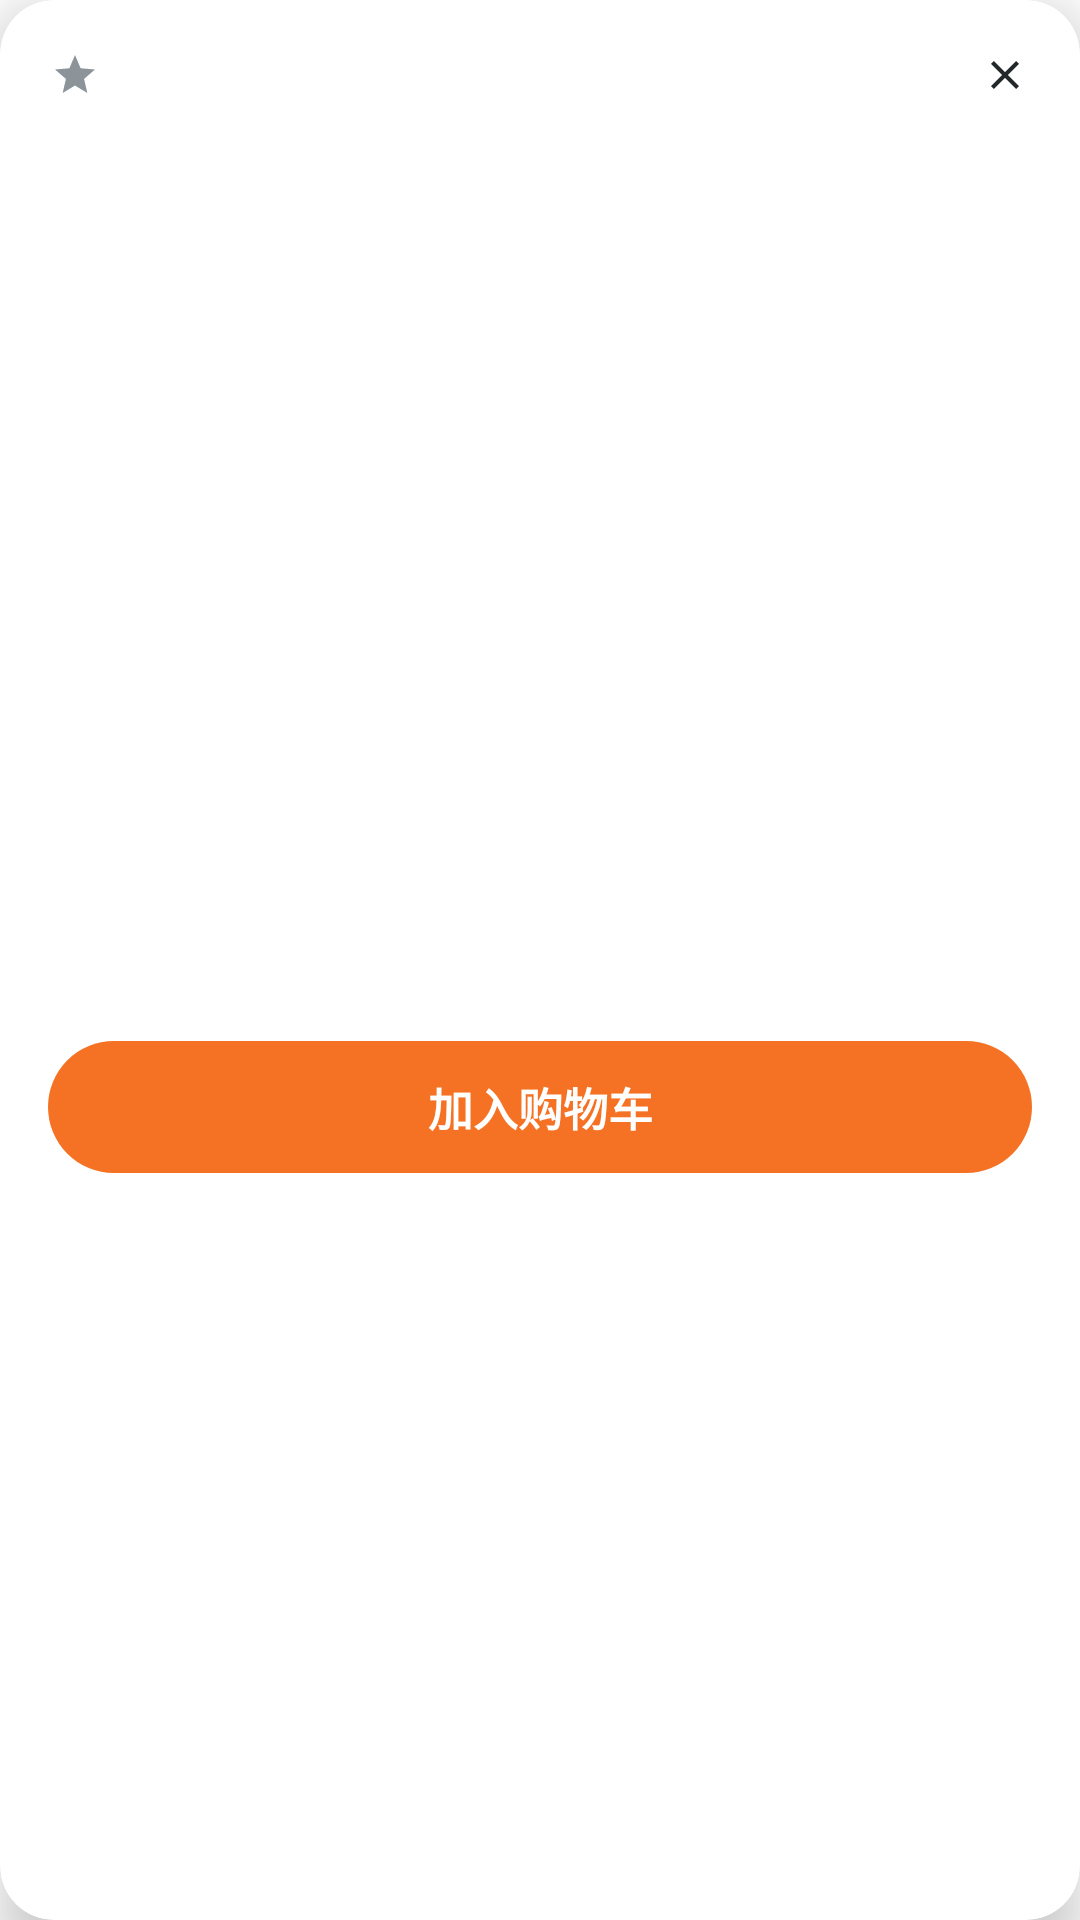

Point at icon controls on the screen. Image size 1080w x 1920h, points as point (x, y).
关闭: point (1005, 75)
收藏: point (75, 74)
